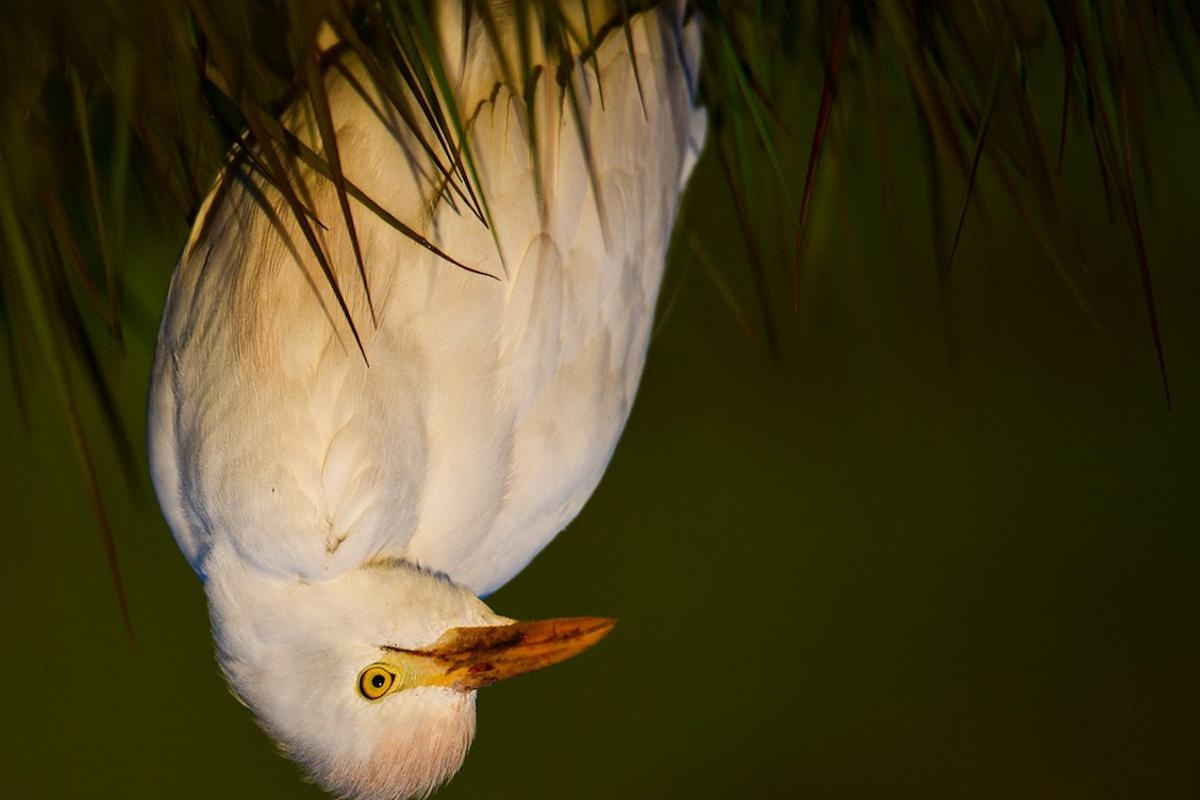egret: (161, 1, 718, 787)
